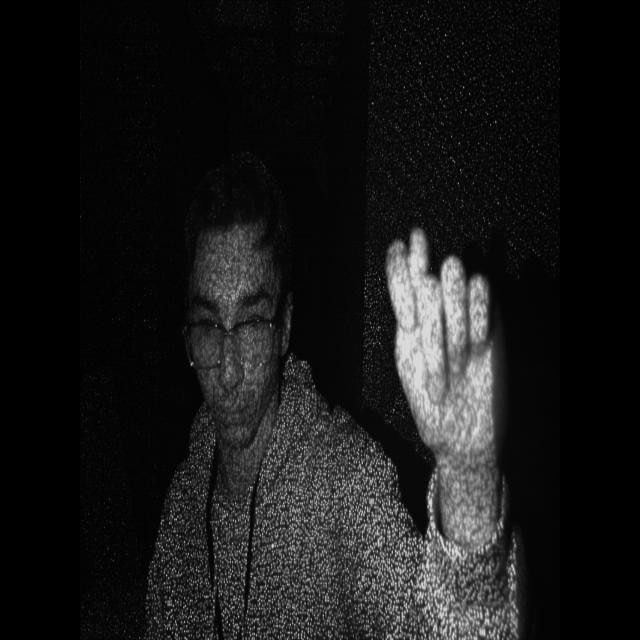T: (368, 203, 508, 464)
